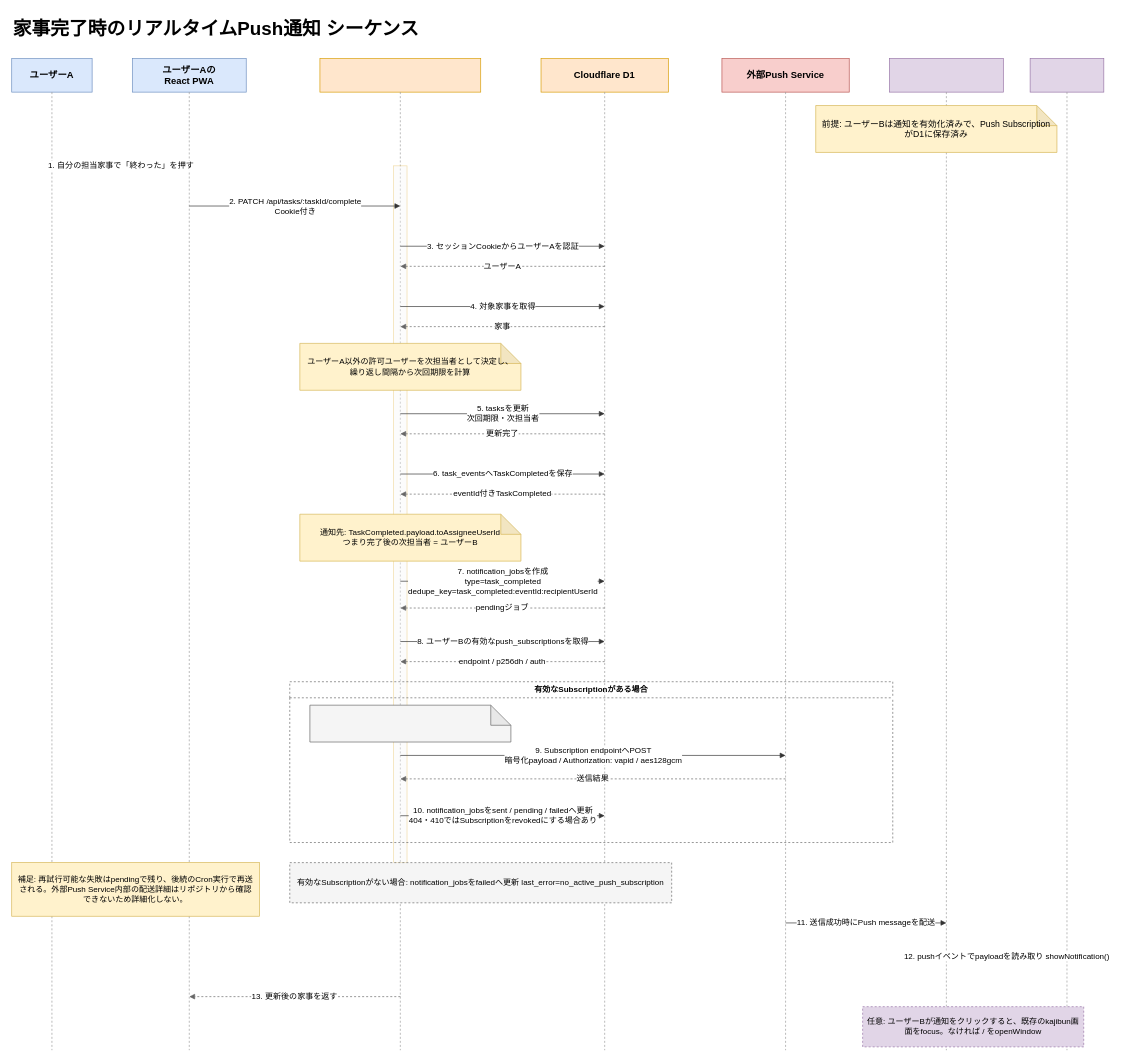
The diagram is 1121 pixels wide and 1063 high, and some of its shapes have lost their labels. Here are the shapes that lost their labels. From the top down, the centre of each, then its label:
At (x=400, y=75): "Cloudflare Worker kajibun API".
At (x=946, y=75): "ユーザーBの push-sw.js".
At (x=1066, y=75): "ユーザーB".
At (x=410, y=723): "同じ家事完了APIリクエスト内でVAPID JWT生成とpayload暗号化を行う".
